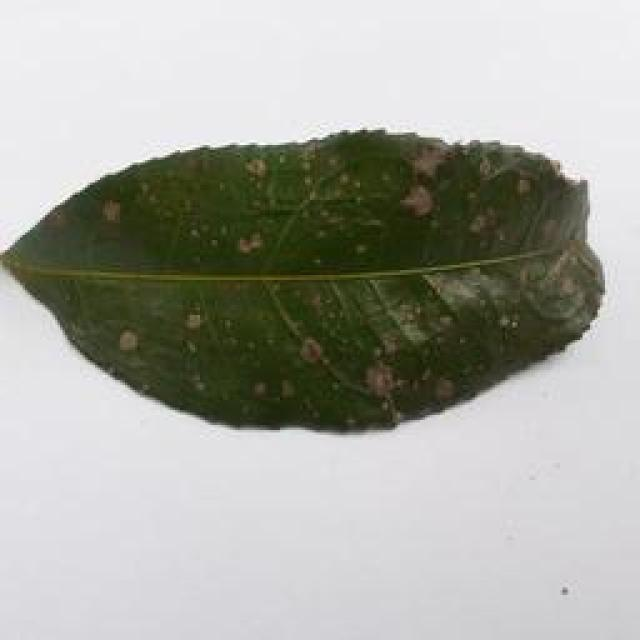Algal Leaf Spot: (3, 122, 625, 436)
